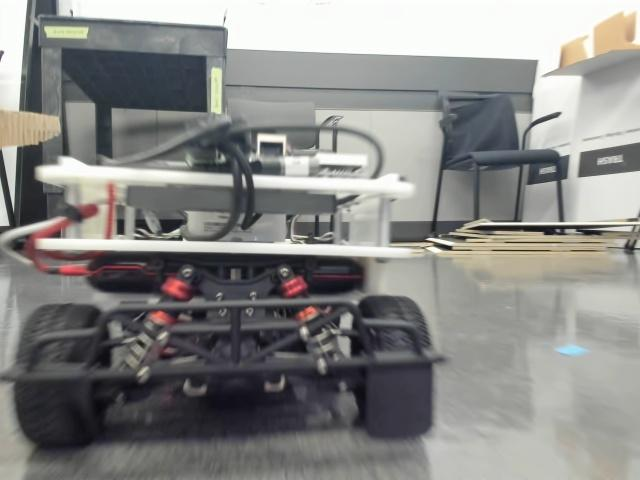Car: (6, 111, 444, 444)
